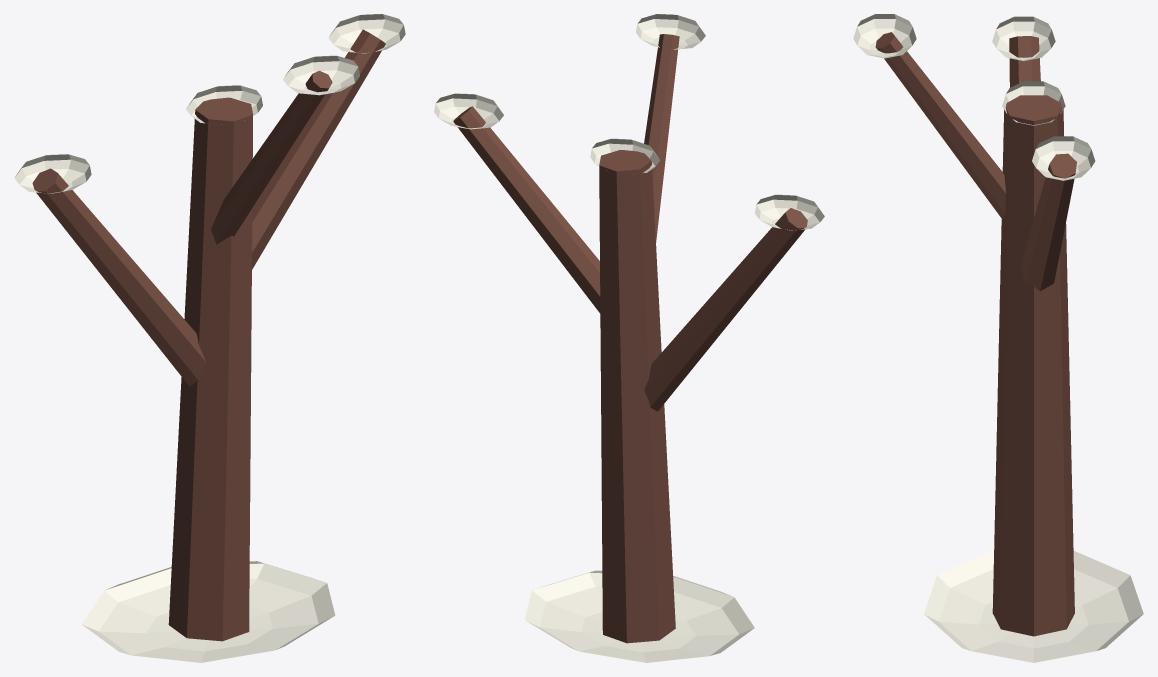
File: turning-seasons-winter-orchard-tree-3910bc71__2110.glb
The picture shows the model from 3 angles, left to right: view 1: azimuth 30°, elevation 25°; view 2: azimuth 150°, elevation 25°; view 3: azimuth 270°, elevation 25°; orthographic projection. The views are drawn at different scales.
Visible parts, largest first — view 1: winter-orchard-tree; view 2: winter-orchard-tree; view 3: winter-orchard-tree.
Boxes of the visible parts, x1=… form: winter-orchard-tree: x1=14, y1=14, x2=405, y2=662; winter-orchard-tree: x1=434, y1=14, x2=824, y2=662; winter-orchard-tree: x1=853, y1=14, x2=1143, y2=662.
Size of the model in its own units: 1.9 by 2.75 by 1.17.
